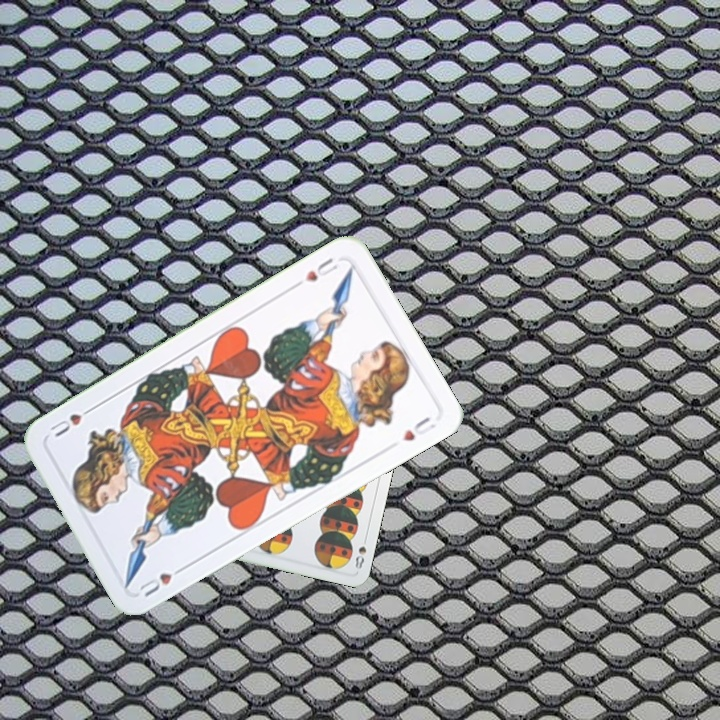HU: (135, 561, 189, 600), (301, 254, 342, 285)
S8: (351, 532, 370, 571)
